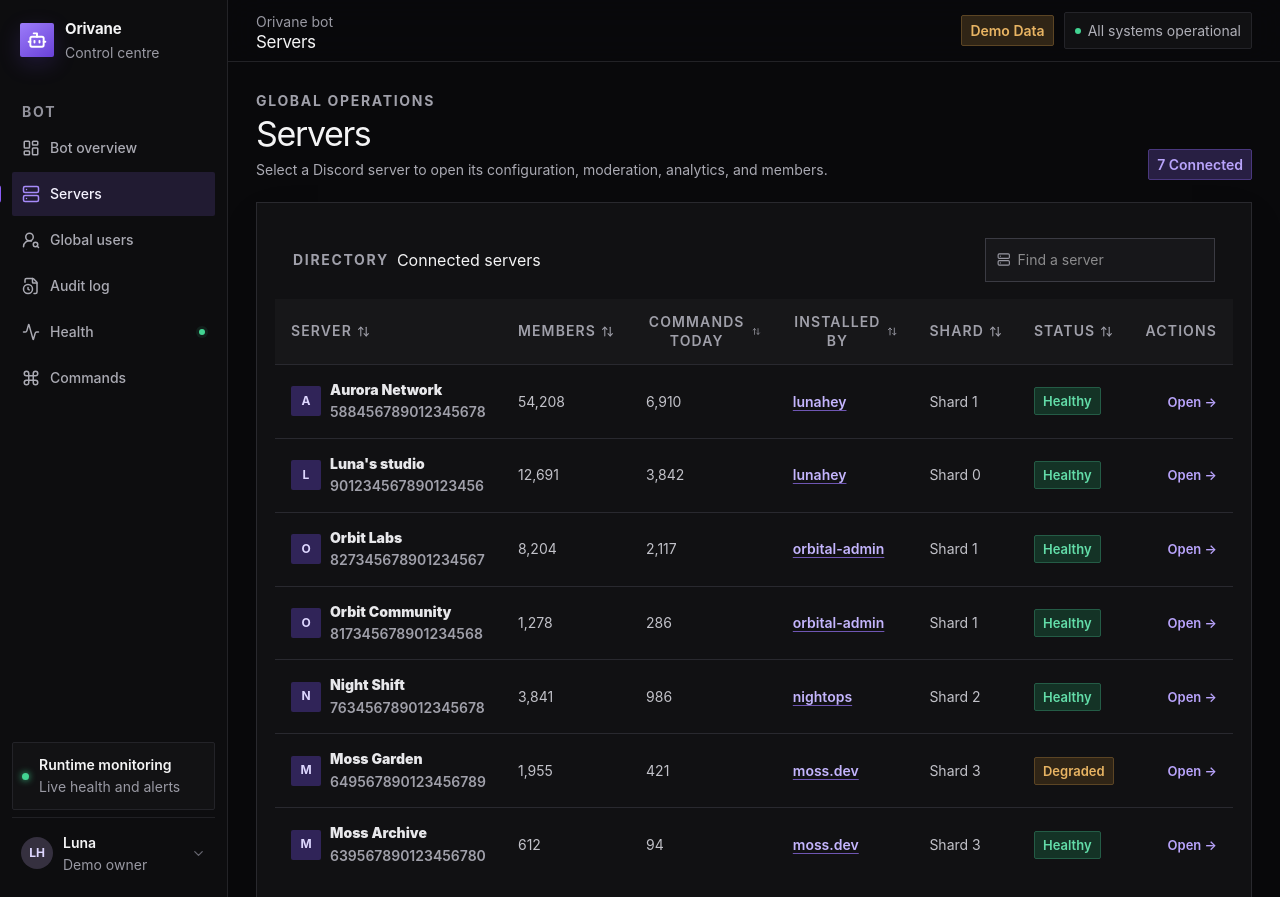
Scenario: dashboard accessibility › keeps bot navigation global and links installers to global user details
expect the link "Global users" is shown: met, box [22,230,134,248]
Step 1. Click the link "lunahey" in the row of "Aurora Network" → (820, 401), box [793,392,846,410]
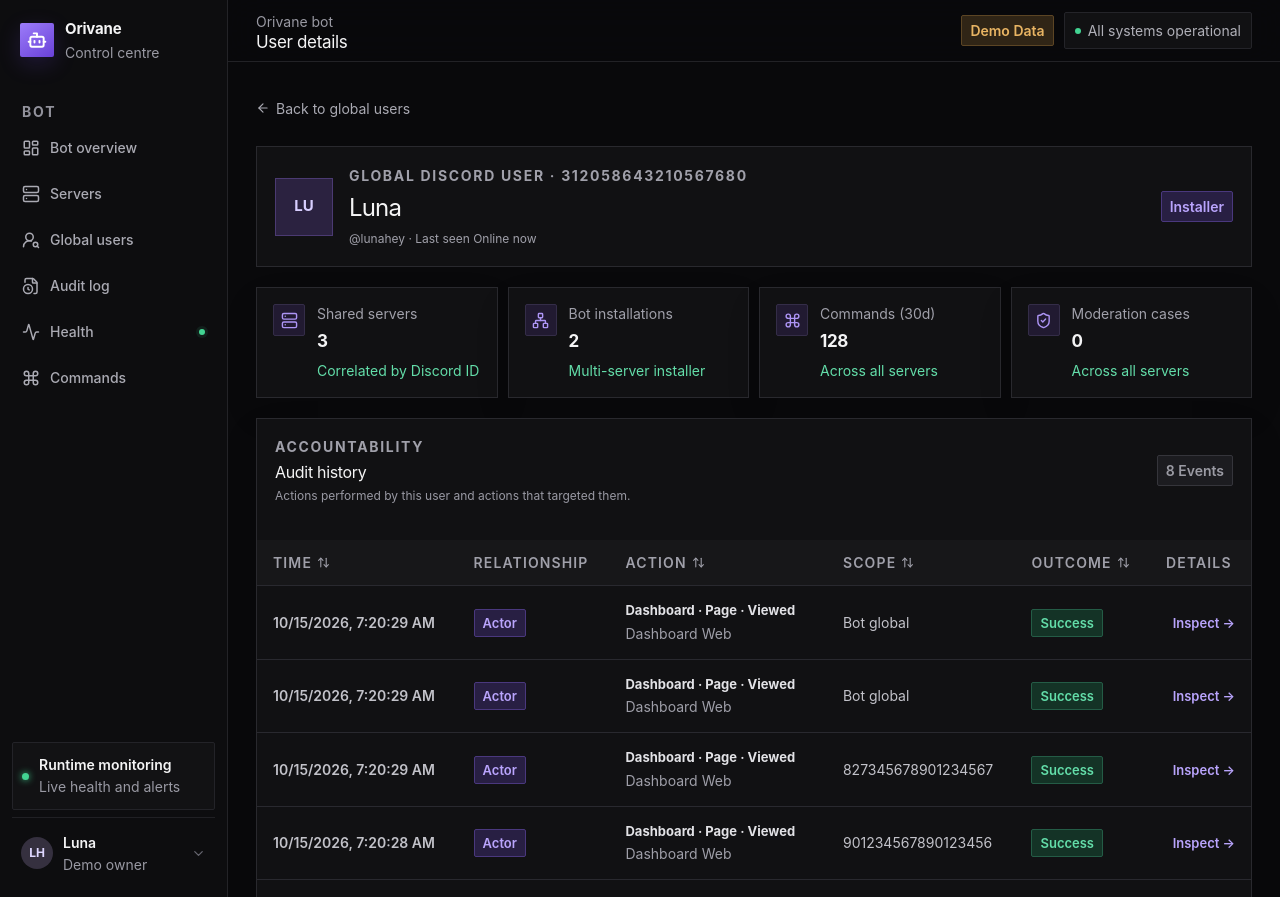
expect the heading "Luna" is shown: met, box [349,193,401,222]
expect the 1st link "Inspect →" is shown: met, box [1173,615,1235,631]
